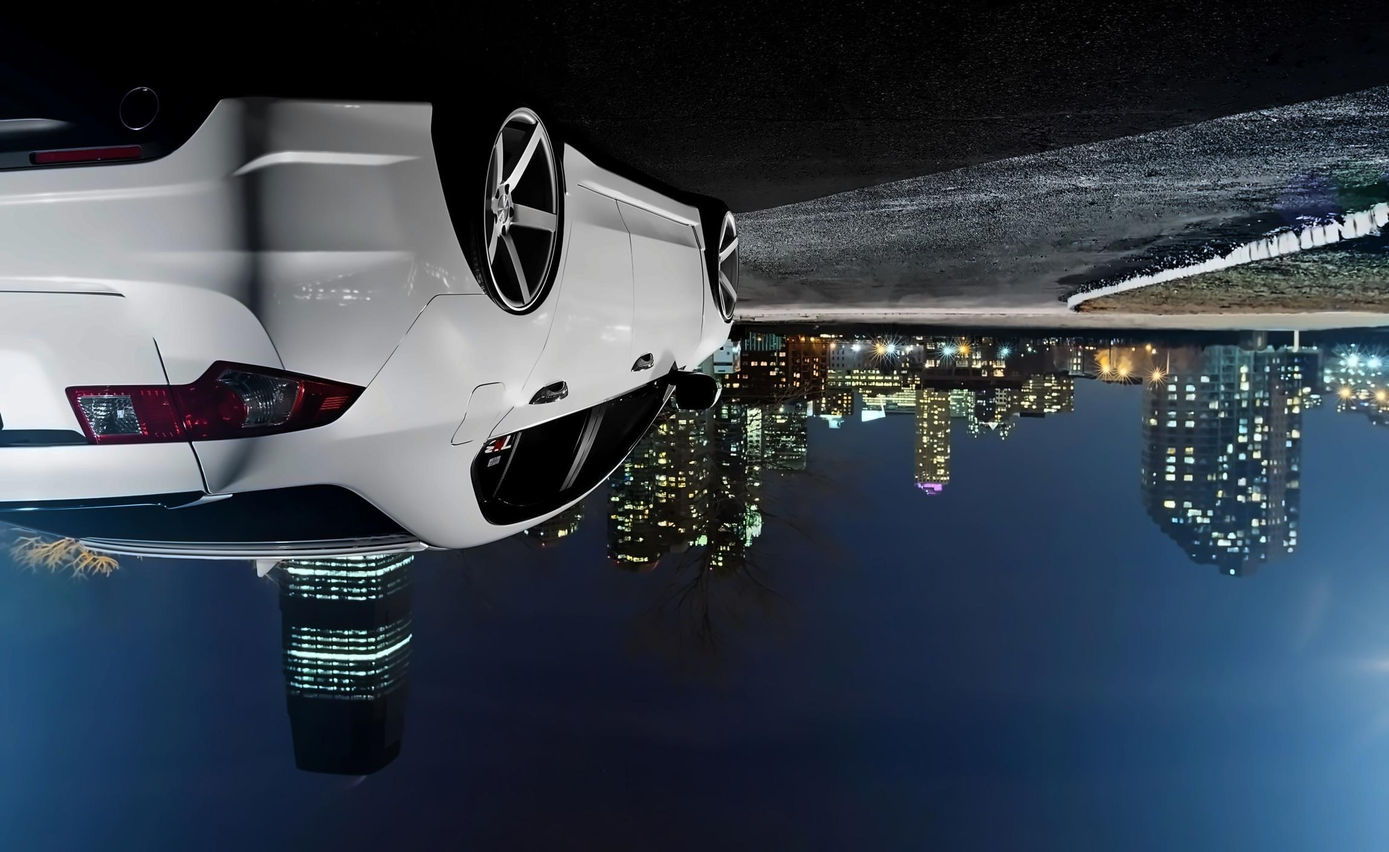Car boot: (0, 275, 231, 518)
Fender - -F-L-: (693, 215, 736, 363)
Fender - -R-L-: (340, 148, 574, 495)
Passenger-s door - -F-L-: (599, 196, 704, 494)
Passenger-s door - -R-L-: (487, 179, 633, 546)
Rear bumper: (0, 86, 467, 381)
Rear light - -L-: (65, 350, 373, 452)
Side bumper - -L-: (551, 135, 710, 233)
Side mirror - -L-: (665, 358, 728, 426)
